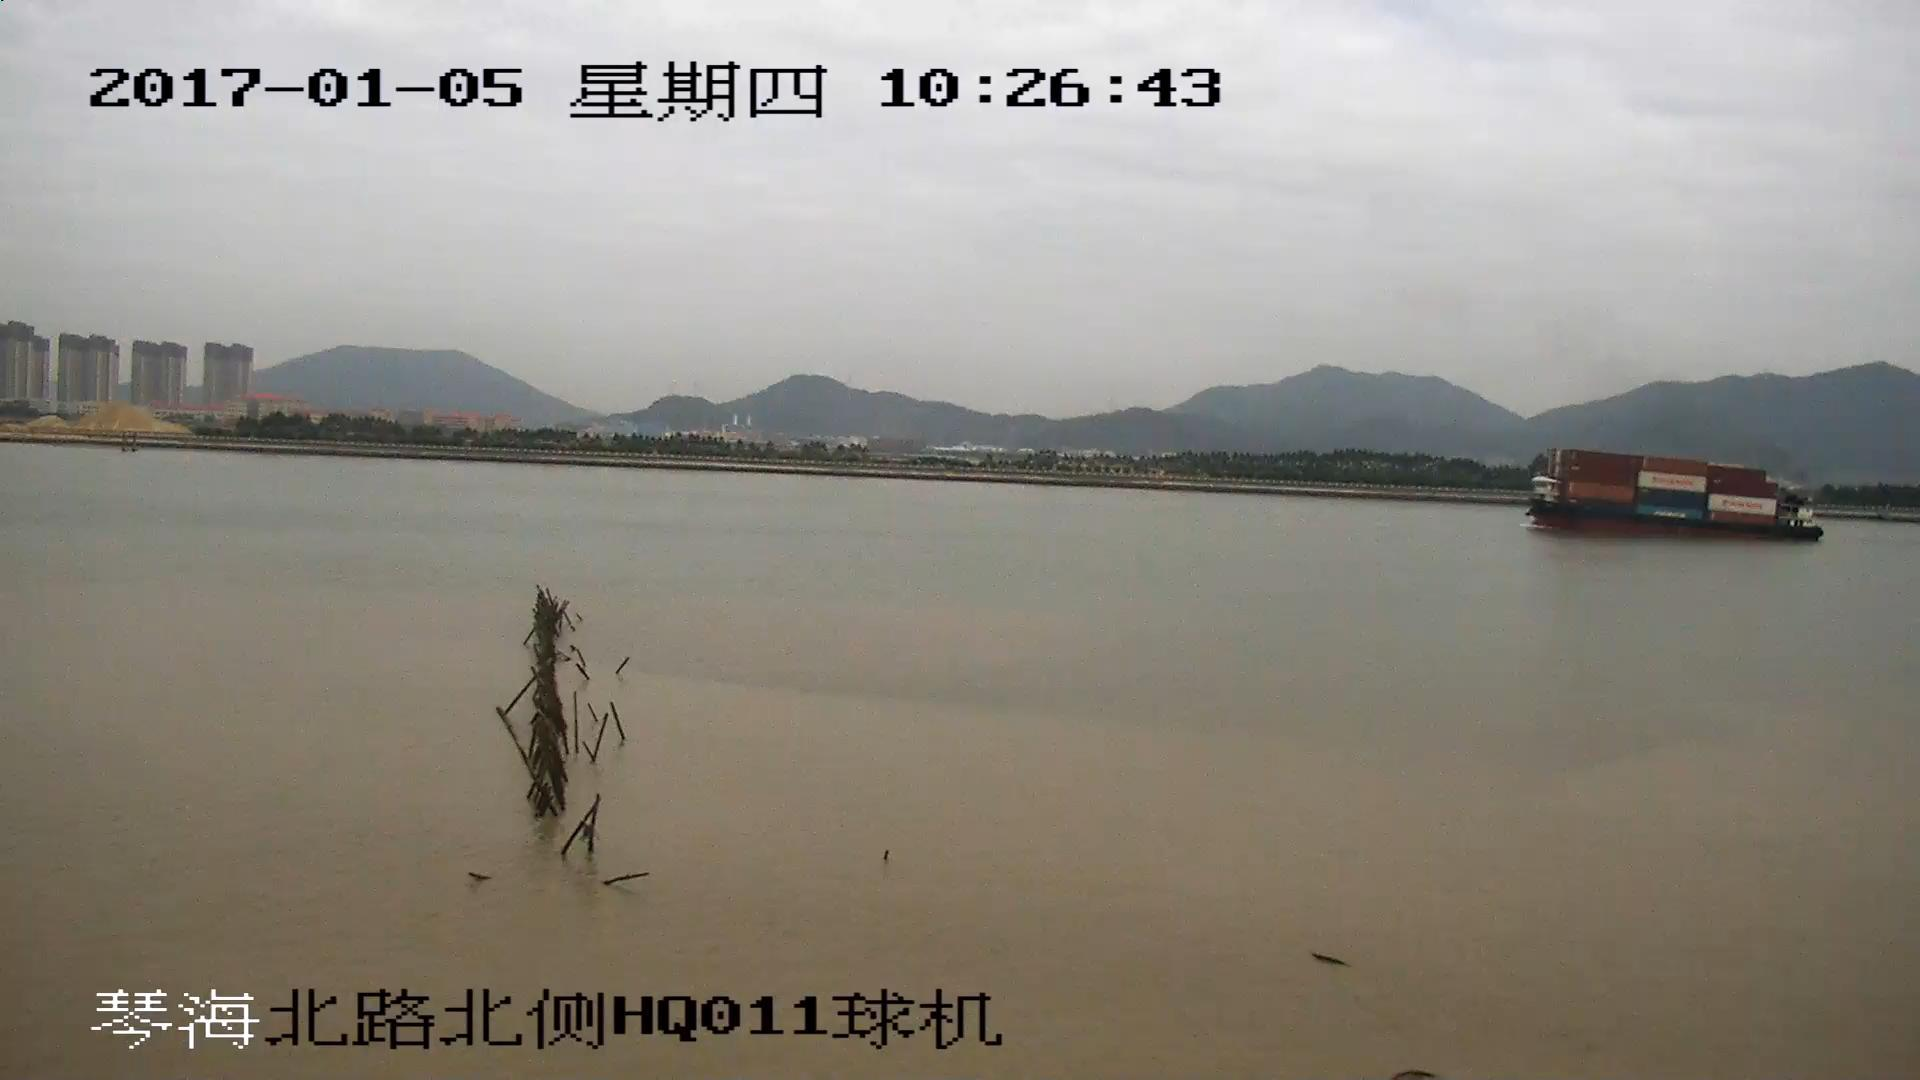Ship: (1528, 454, 1822, 546)
